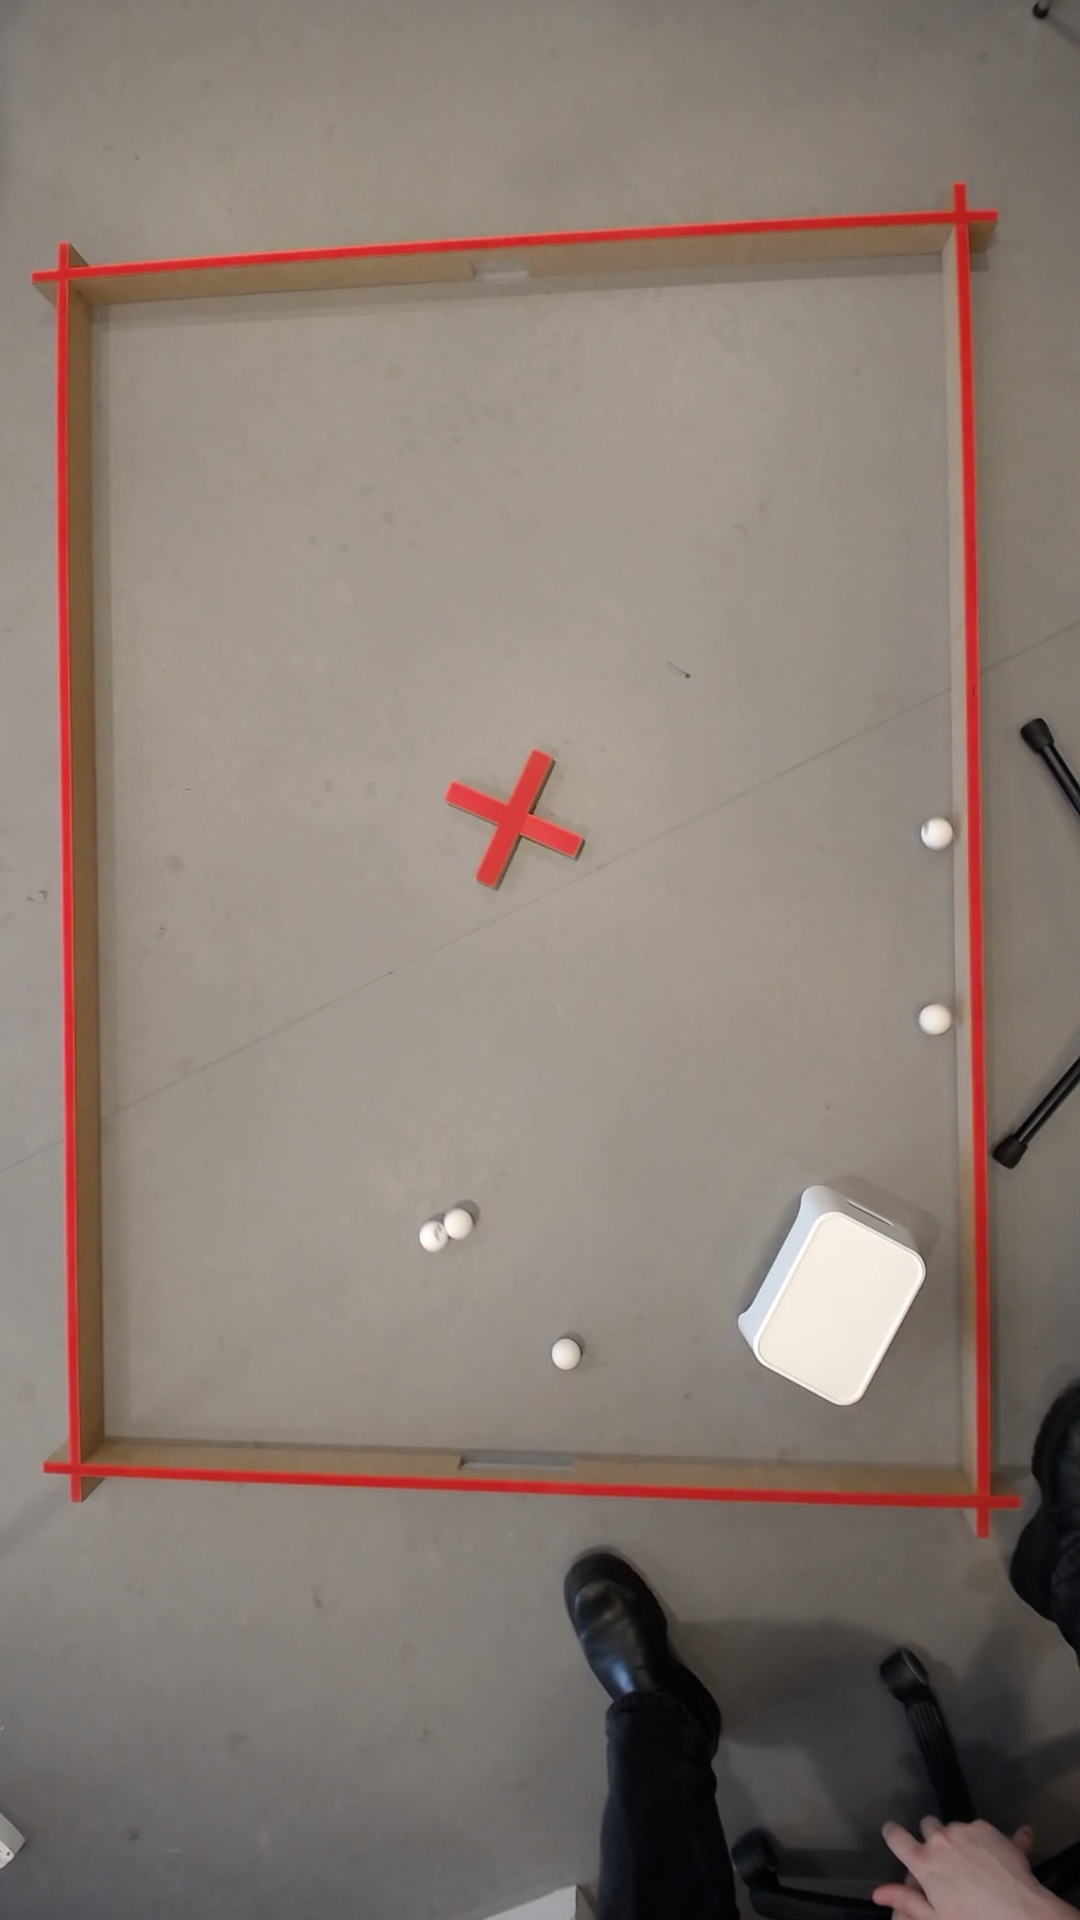balls: (721, 1188, 935, 1412), (915, 812, 955, 852), (914, 1000, 952, 1038)
car: (545, 1336, 580, 1371)
